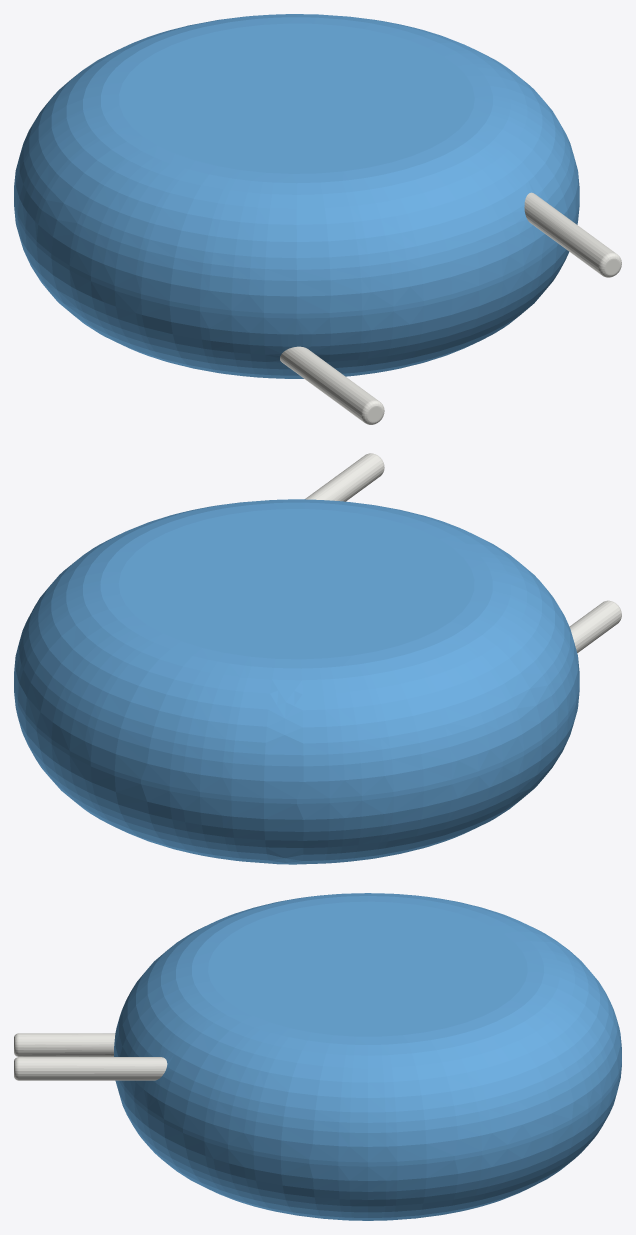
File: RV_Disc_D15.5mm_W5.9mm_P7.5mm.glb
3 views of the same model, one above another, from view 1: azimuth 30°, elevation 25°; view 2: azimuth 150°, elevation 25°; view 3: azimuth 270°, elevation 25° (orthographic). The views are drawn at different scales.
Parts seen in each view (by area): view 1: Shape_IndexedFaceSet.001, Shape_IndexedFaceSet.003, Shape_IndexedFaceSet.002, Shape_IndexedFaceSet, Shape_IndexedFaceSet.006, Shape_IndexedFaceSet.004; view 2: Shape_IndexedFaceSet.001, Shape_IndexedFaceSet.003, Shape_IndexedFaceSet.002, Shape_IndexedFaceSet, Shape_IndexedFaceSet.004, Shape_IndexedFaceSet.006; view 3: Shape_IndexedFaceSet.001, Shape_IndexedFaceSet.003, Shape_IndexedFaceSet.002, Shape_IndexedFaceSet.004, Shape_IndexedFaceSet, Shape_IndexedFaceSet.006.
Part boxes in pixels (x1,y1,x2,y2): Shape_IndexedFaceSet.001: (14, 14, 579, 313); Shape_IndexedFaceSet.003: (119, 23, 474, 173); Shape_IndexedFaceSet.002: (14, 206, 579, 378); Shape_IndexedFaceSet: (14, 201, 579, 318); Shape_IndexedFaceSet.006: (280, 346, 378, 421); Shape_IndexedFaceSet.004: (524, 192, 615, 274); Shape_IndexedFaceSet.001: (14, 499, 579, 799); Shape_IndexedFaceSet.003: (118, 509, 474, 659); Shape_IndexedFaceSet.002: (14, 692, 579, 864); Shape_IndexedFaceSet: (14, 687, 579, 803); Shape_IndexedFaceSet.004: (305, 453, 383, 501); Shape_IndexedFaceSet.006: (569, 601, 621, 652); Shape_IndexedFaceSet.001: (114, 893, 621, 1162); Shape_IndexedFaceSet.003: (208, 901, 527, 1036); Shape_IndexedFaceSet.002: (115, 1066, 621, 1220); Shape_IndexedFaceSet.004: (18, 1057, 167, 1080); Shape_IndexedFaceSet: (119, 1062, 621, 1166); Shape_IndexedFaceSet.006: (18, 1033, 115, 1056).
Bounding box in the file's own units: 6.1 × 2.32 × 7.29.
